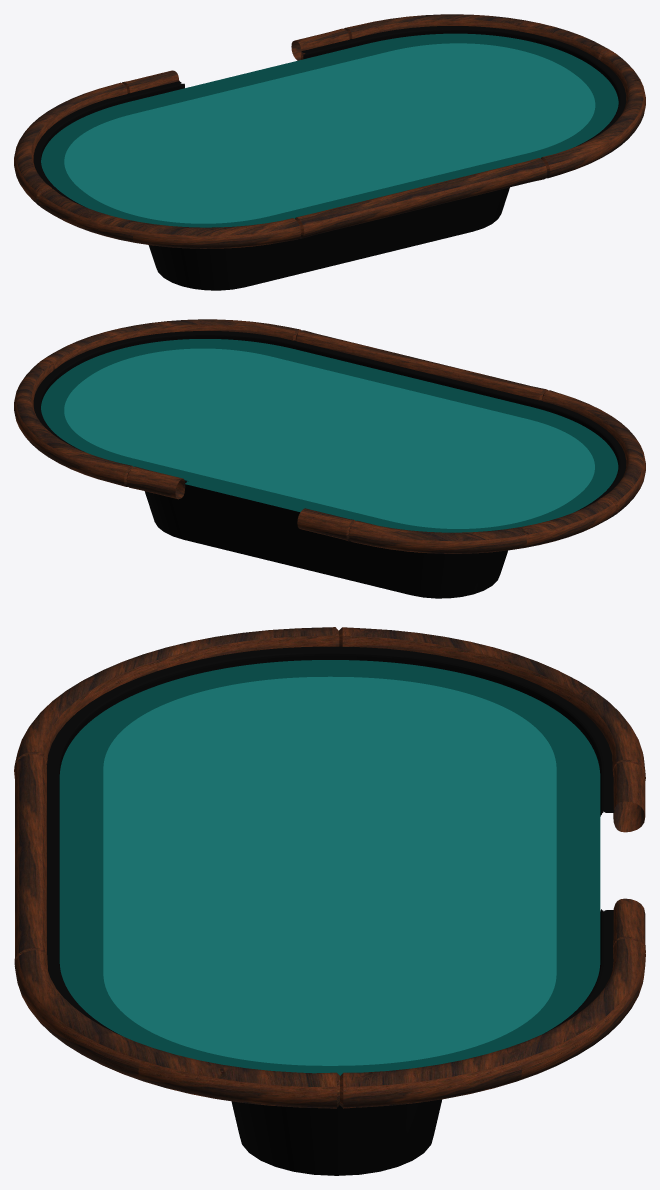
File: TableFBX.FBX
3 renders of one model, top to bottom at view 1: azimuth 30°, elevation 25°; view 2: azimuth 150°, elevation 25°; view 3: azimuth 270°, elevation 25°, orthographic. The views are drawn at different scales.
Visible parts, largest first — view 1: tabla01, Loft01, Rectangle01; view 2: tabla01, Loft01, Rectangle01; view 3: tabla01, Loft01, Rectangle01.
Part boxes in pixels (box(x1,y1,x2,y2)): tabla01: box(33, 26, 626, 227); Loft01: box(14, 14, 645, 248); Rectangle01: box(148, 187, 509, 290); tabla01: box(33, 331, 626, 532); Loft01: box(14, 319, 645, 553); Rectangle01: box(144, 484, 507, 598); tabla01: box(46, 646, 614, 1075); Loft01: box(14, 627, 645, 1108); Rectangle01: box(231, 1099, 442, 1175).
Size of the model in its own units: 380 by 73.62 by 220.
